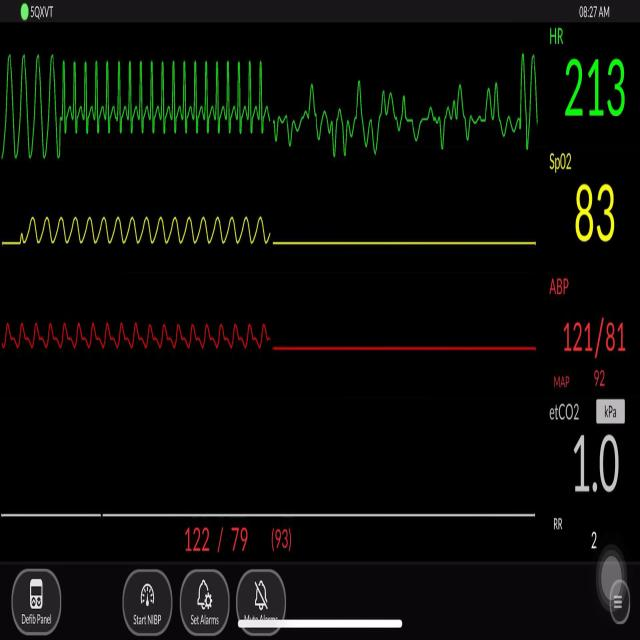danger: (72, 56, 265, 142), (2, 47, 64, 162)
